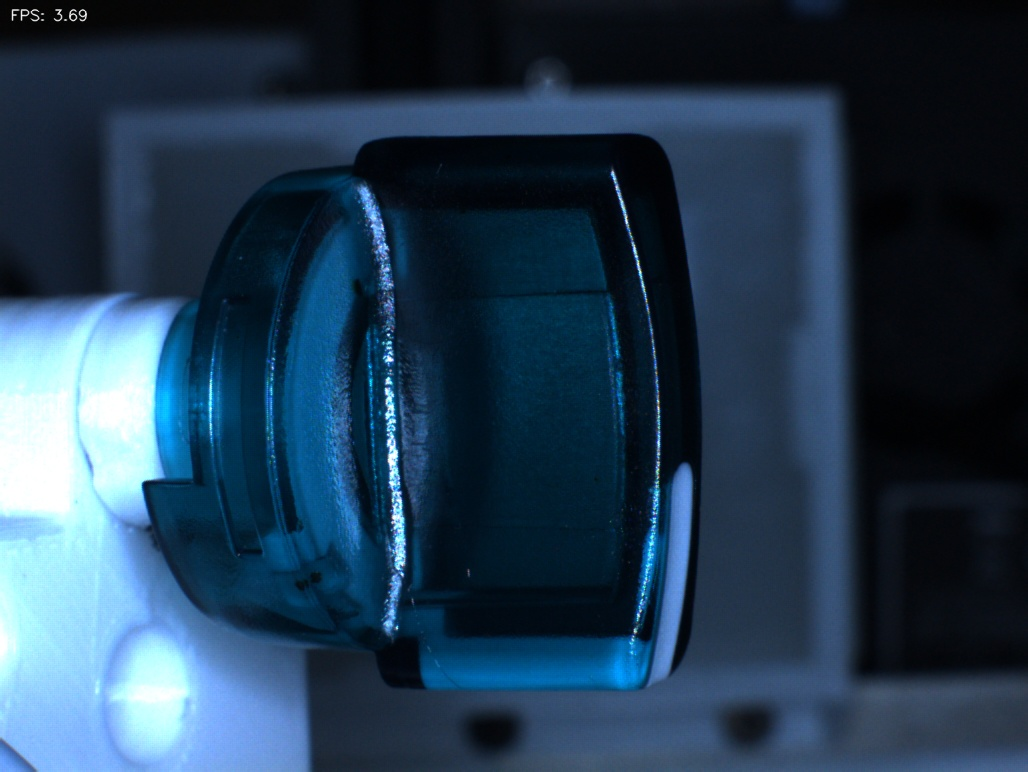PointNoir: (316, 248, 385, 326)
